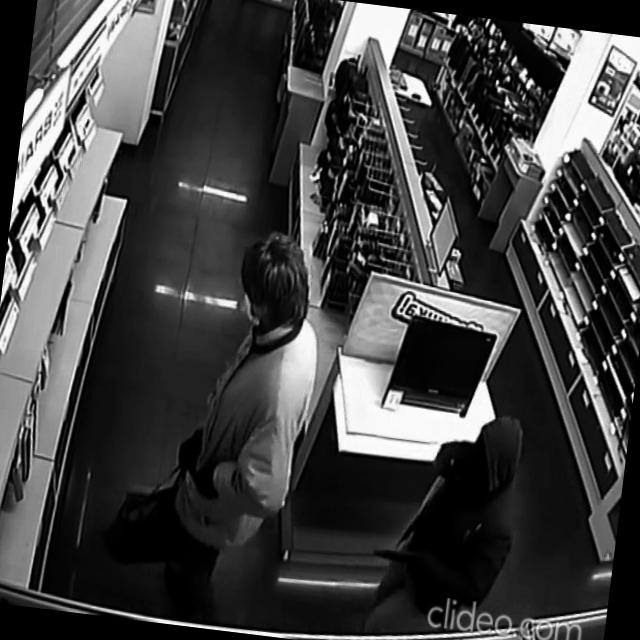gun: (370, 540, 420, 566)
person: (94, 214, 334, 636)
person with a gun: (359, 397, 529, 640)
